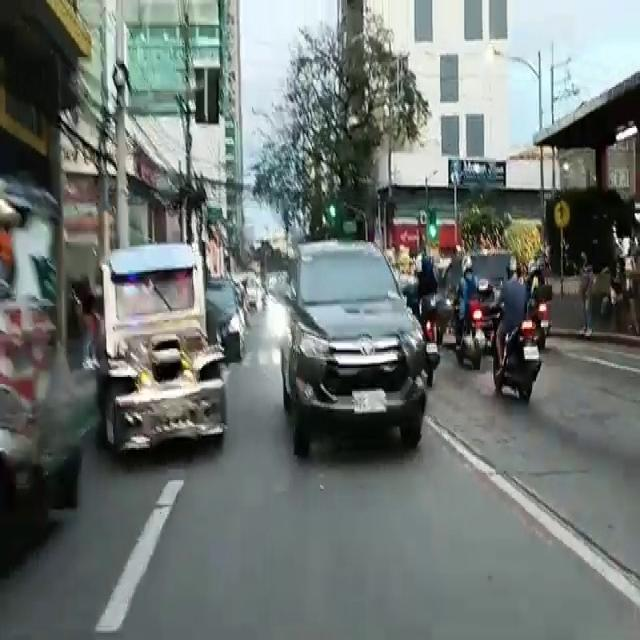car: (291, 239, 418, 462)
jeepney: (83, 258, 227, 458)
motorcycle: (506, 269, 529, 415), (420, 247, 446, 371), (458, 266, 478, 379), (536, 265, 556, 365)
